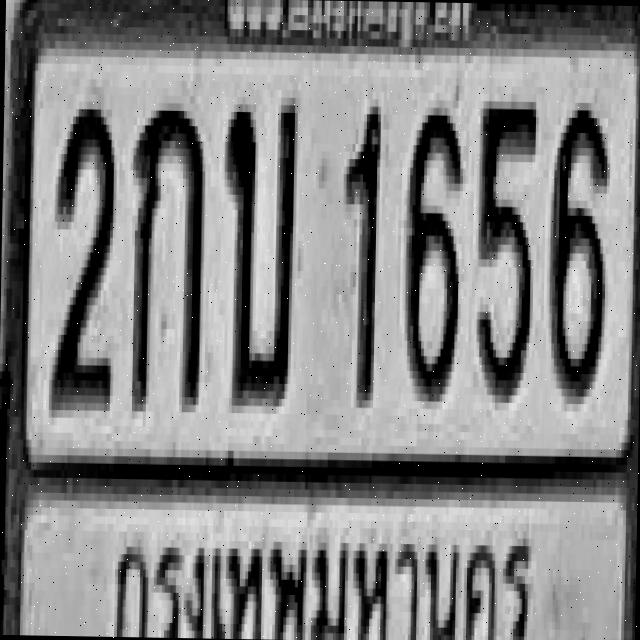1: (340, 98, 380, 400)
10GorGai: (128, 103, 204, 404)
2: (50, 101, 116, 403)
35BorBaiMai: (220, 92, 298, 402)
5: (475, 93, 536, 395)
6: (548, 102, 608, 396), (403, 104, 461, 398)
Bangkok: (105, 521, 535, 640)
